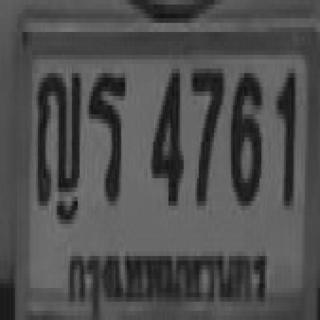A13: (36, 68, 80, 201)
A35: (87, 68, 125, 201)
N01: (274, 68, 294, 201)
N04: (150, 64, 182, 201)
N06: (229, 68, 259, 201)
N07: (189, 64, 222, 201)
P04: (63, 237, 268, 320)
